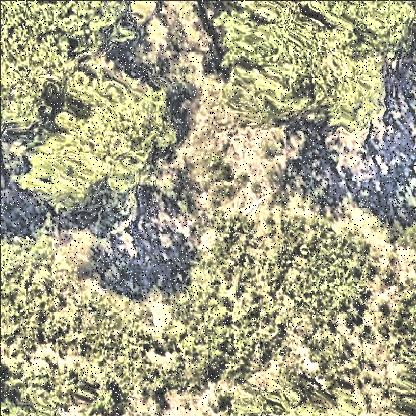tree-top: (25, 74, 179, 219), (4, 2, 132, 136), (226, 24, 386, 124)
